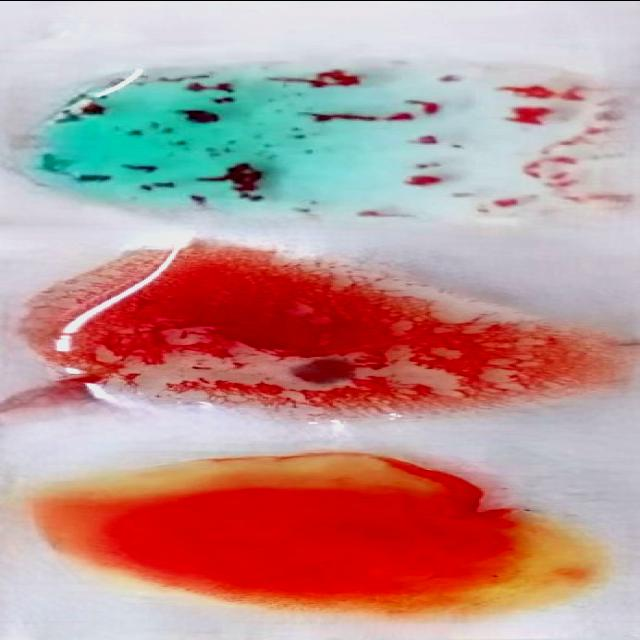A: (20, 67, 640, 220)
D: (38, 250, 640, 417)
